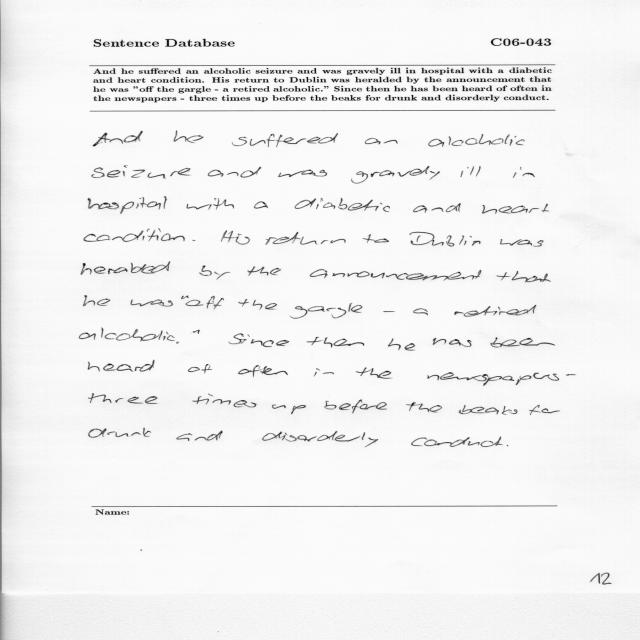word: (310, 269, 481, 280), (262, 431, 378, 447), (427, 372, 559, 386), (351, 166, 440, 183), (232, 133, 338, 147), (88, 196, 167, 214), (92, 165, 191, 179), (294, 198, 390, 212), (79, 328, 175, 342), (84, 229, 185, 242), (428, 134, 525, 147), (290, 303, 363, 319), (81, 262, 170, 275), (410, 232, 481, 247), (266, 232, 346, 245), (324, 399, 387, 414), (411, 437, 503, 447), (454, 305, 537, 316), (192, 394, 257, 408), (229, 333, 289, 347), (88, 360, 155, 372), (93, 131, 143, 146), (490, 337, 555, 348), (89, 394, 158, 404), (482, 204, 549, 214), (307, 337, 365, 348), (89, 428, 151, 438), (238, 365, 288, 377), (497, 271, 551, 282), (459, 405, 518, 415), (208, 167, 261, 178), (187, 198, 235, 210), (413, 203, 461, 213), (176, 431, 223, 441), (199, 265, 230, 280), (181, 296, 215, 309), (221, 230, 250, 245), (238, 299, 277, 310), (356, 367, 391, 379), (406, 402, 442, 413), (174, 131, 204, 143), (500, 239, 544, 247), (433, 338, 472, 347), (278, 170, 327, 177), (247, 266, 281, 276), (272, 405, 306, 415), (388, 339, 415, 351), (529, 405, 560, 415), (131, 300, 174, 307), (84, 296, 111, 306), (513, 167, 535, 178), (188, 364, 212, 374), (363, 234, 389, 243), (365, 138, 398, 145), (461, 166, 481, 177), (314, 369, 334, 377), (214, 298, 224, 309), (413, 309, 428, 316), (254, 202, 268, 209), (193, 330, 200, 334), (566, 374, 576, 376), (383, 311, 395, 312), (176, 342, 179, 344), (193, 240, 196, 241), (507, 445, 509, 446)
